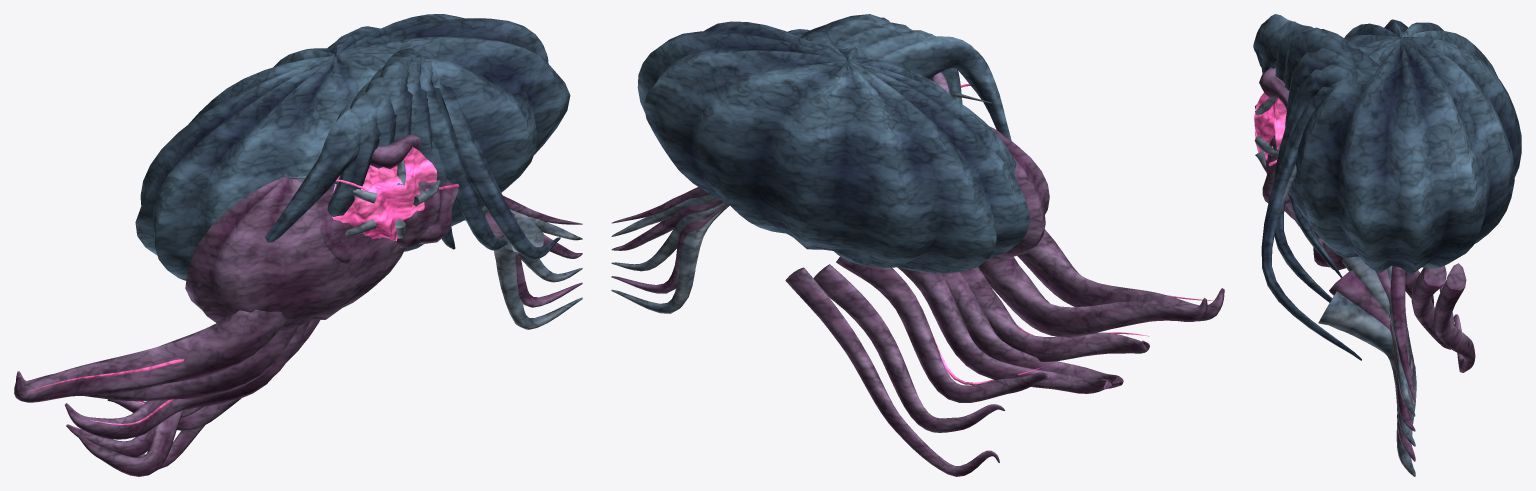
File: broodmother.glb
3 views of the same model, side by side, from view 1: azimuth 30°, elevation 25°; view 2: azimuth 150°, elevation 25°; view 3: azimuth 270°, elevation 25° (orthographic). The views are drawn at different scales.
Parts seen in each view (by area): view 1: broodmother_carapace, broodmother_membrane, broodmother_signal, broodmother_rib; view 2: broodmother_carapace, broodmother_membrane, broodmother_rib; view 3: broodmother_carapace, broodmother_membrane, broodmother_rib, broodmother_signal.
Part boxes in pixels (x1=…): broodmother_carapace: x1=135, y1=14, x2=570, y2=280; broodmother_membrane: x1=14, y1=134, x2=582, y2=476; broodmother_signal: x1=29, y1=147, x2=459, y2=425; broodmother_rib: x1=282, y1=140, x2=582, y2=329; broodmother_carapace: x1=637, y1=14, x2=1030, y2=273; broodmother_membrane: x1=611, y1=72, x2=1224, y2=476; broodmother_rib: x1=611, y1=93, x2=991, y2=313; broodmother_carapace: x1=1253, y1=14, x2=1521, y2=360; broodmother_membrane: x1=1259, y1=67, x2=1475, y2=461; broodmother_rib: x1=1254, y1=97, x2=1416, y2=476; broodmother_signal: x1=1254, y1=92, x2=1286, y2=165.
Size of the model in its own units: 4.21 by 2.69 by 1.56.
Materials: 4 (4 with a texture image).
